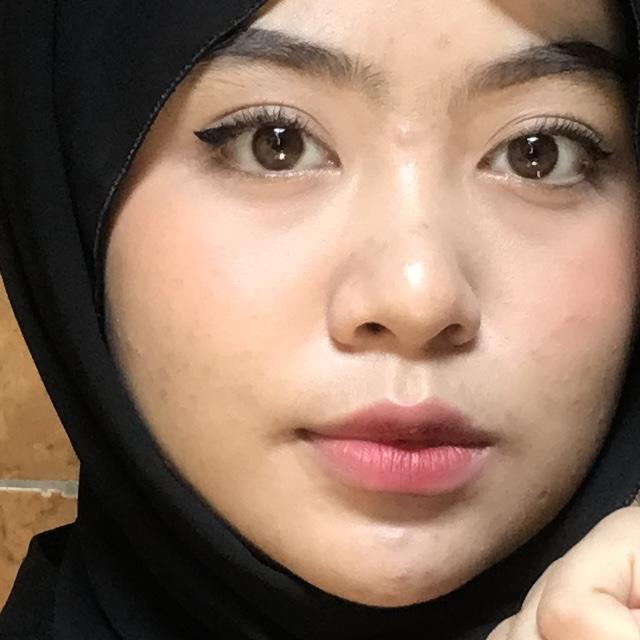sedih: (320, 346, 640, 640)
